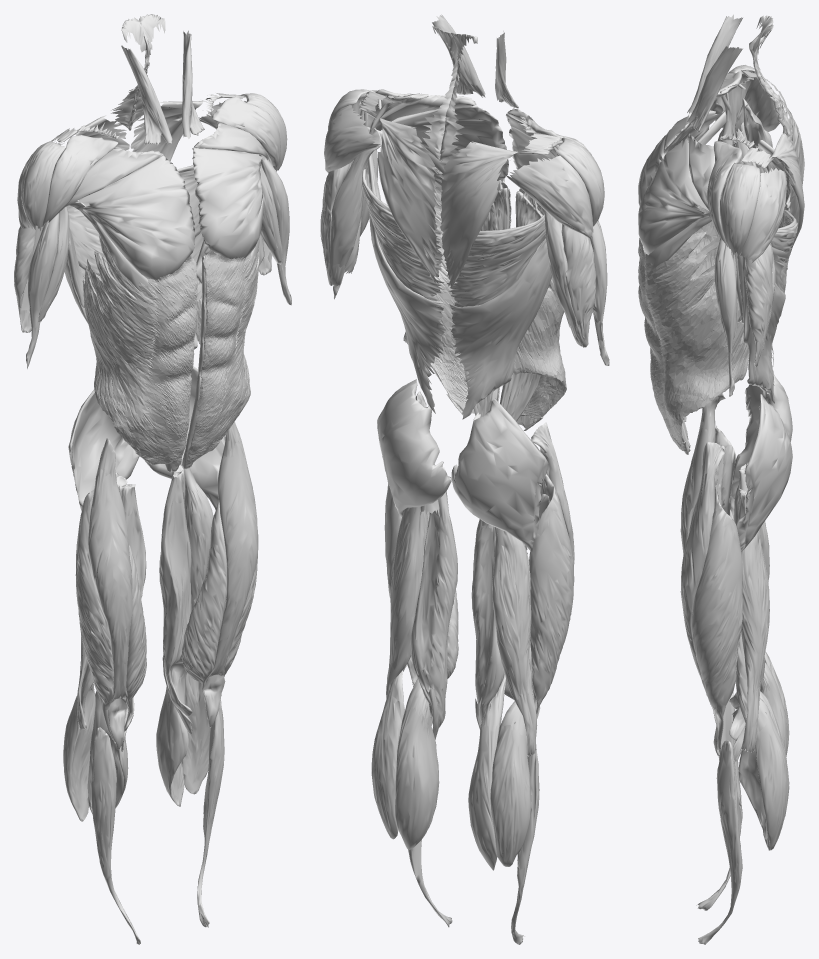
Rendered from musculos.glb.
3 renders of one model, left to right at view 1: azimuth 30°, elevation 25°; view 2: azimuth 150°, elevation 25°; view 3: azimuth 270°, elevation 25°, orthographic. The views are drawn at different scales.
Parts seen in each view (by area): view 1: obliquo_d, quadriceps_d, quadriceps_e, peitoral_d, obliquo_e, peitoral_e, isquiotibiais_e, deltoide_d, gastrocnemio_e, gastrocnemio_d, gluteo_d, biceps_d (+14 smaller); view 2: latissimo_d, isquiotibiais_e, isquiotibiais_d, gluteo_d, gastrocnemio_e, quadriceps_d, gastrocnemio_d, trapezio_e, trapezio_d, latissimo_e, gluteo_e, deltoide_d (+16 smaller); view 3: obliquo_e, quadriceps_e, peitoral_e, deltoide_e, isquiotibiais_e, gastrocnemio_e, gluteo_e, latissimo_e, quadriceps_d, triceps_e, tibial_anterior_e, trapezio_e (+14 smaller).
Boxes of the visible parts, left/top/right/bottom form: obliquo_d: left=83, top=234, right=197, bottom=467; quadriceps_d: left=75, top=438, right=146, bottom=749; quadriceps_e: left=182, top=421, right=258, bottom=727; peitoral_d: left=65, top=148, right=195, bottom=295; obliquo_e: left=185, top=245, right=259, bottom=464; peitoral_e: left=192, top=123, right=267, bottom=269; isquiotibiais_e: left=159, top=455, right=221, bottom=735; deltoide_d: left=17, top=135, right=118, bottom=230; gastrocnemio_e: left=156, top=656, right=210, bottom=806; gastrocnemio_d: left=63, top=683, right=128, bottom=821; gluteo_d: left=68, top=389, right=139, bottom=510; biceps_d: left=26, top=206, right=69, bottom=368; latissimo_d: left=444, top=214, right=551, bottom=419; isquiotibiais_e: left=386, top=491, right=457, bottom=739; isquiotibiais_d: left=471, top=519, right=537, bottom=756; gluteo_d: left=451, top=398, right=548, bottom=550; gastrocnemio_e: left=371, top=664, right=439, bottom=849; quadriceps_d: left=504, top=422, right=574, bottom=718; gastrocnemio_d: left=468, top=674, right=531, bottom=870; trapezio_e: left=359, top=26, right=462, bottom=283; trapezio_d: left=439, top=32, right=561, bottom=287; latissimo_e: left=362, top=153, right=446, bottom=413; gluteo_e: left=377, top=379, right=451, bottom=516; deltoide_d: left=505, top=119, right=604, bottom=238; obliquo_e: left=638, top=232, right=749, bottom=451; quadriceps_e: left=680, top=442, right=743, bottom=756; peitoral_e: left=638, top=133, right=714, bottom=272; deltoide_e: left=706, top=141, right=786, bottom=262; isquiotibiais_e: left=729, top=488, right=769, bottom=761; gastrocnemio_e: left=738, top=691, right=789, bottom=850; gluteo_e: left=736, top=394, right=792, bottom=551; latissimo_e: left=734, top=210, right=797, bottom=403; quadriceps_d: left=680, top=393, right=736, bottom=554; triceps_e: left=742, top=243, right=775, bottom=366; tibial_anterior_e: left=698, top=740, right=742, bottom=944; trapezio_e: left=720, top=25, right=804, bottom=253.
Bounding box in the file's own units: 0.475 × 1.53 × 0.2555.
Materials: 6 (2 with a texture image).
